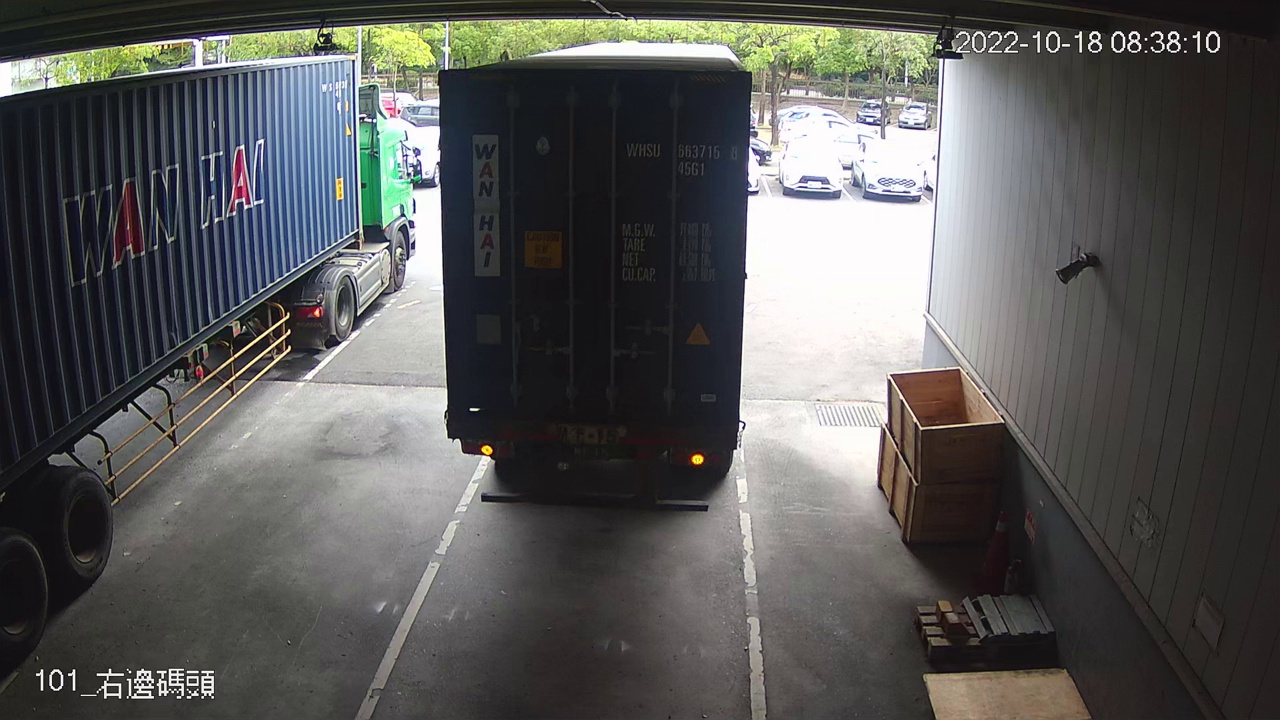container: (622, 136, 742, 181)
